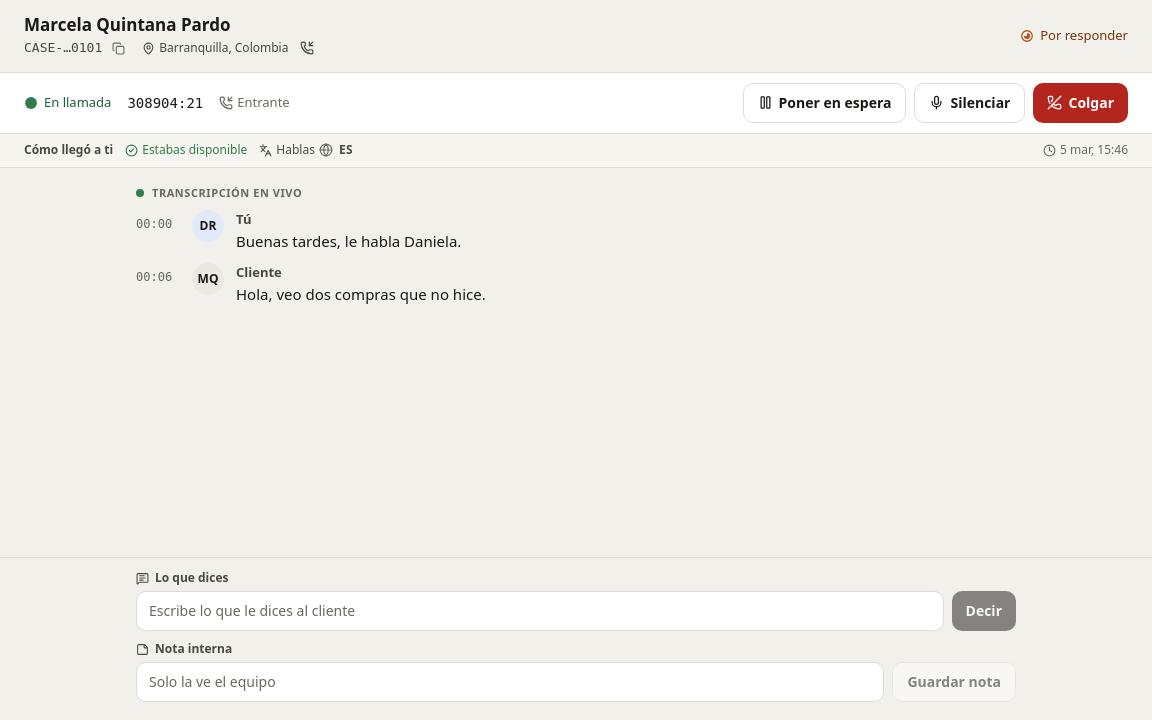
Scenario: ConversationPane · call (slice 12) › shows the live transcript with times and speakers, and posts what the analyst says
Expected: the list item "00:00 DR Tú Buenas tardes, le habla Daniela." is shown, [136, 210, 461, 251]
Expected: the list item "00:06 MQ Cliente Hola, veo dos compras que no hice." is shown, [136, 263, 486, 304]
In the field labelled "Lo que dices": {"x": 540, "y": 611} [136, 591, 944, 631], type "Ya las registré en su caso."
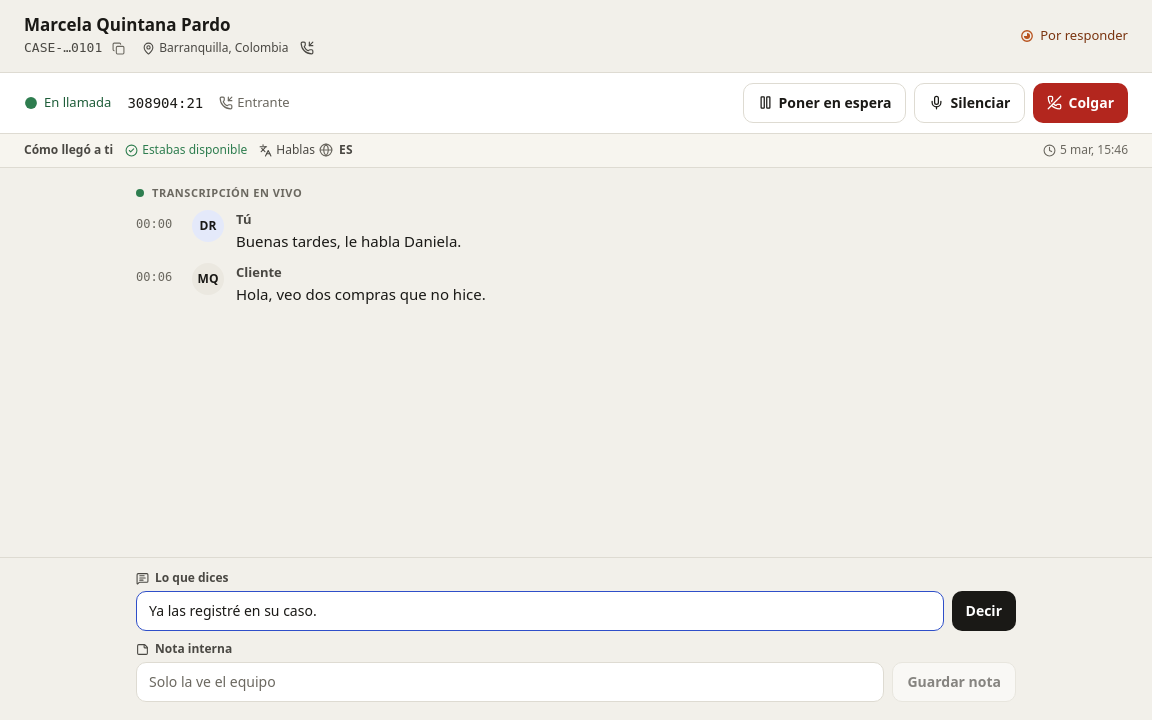
Click the button "Decir": {"x": 984, "y": 611} [952, 591, 1016, 631]
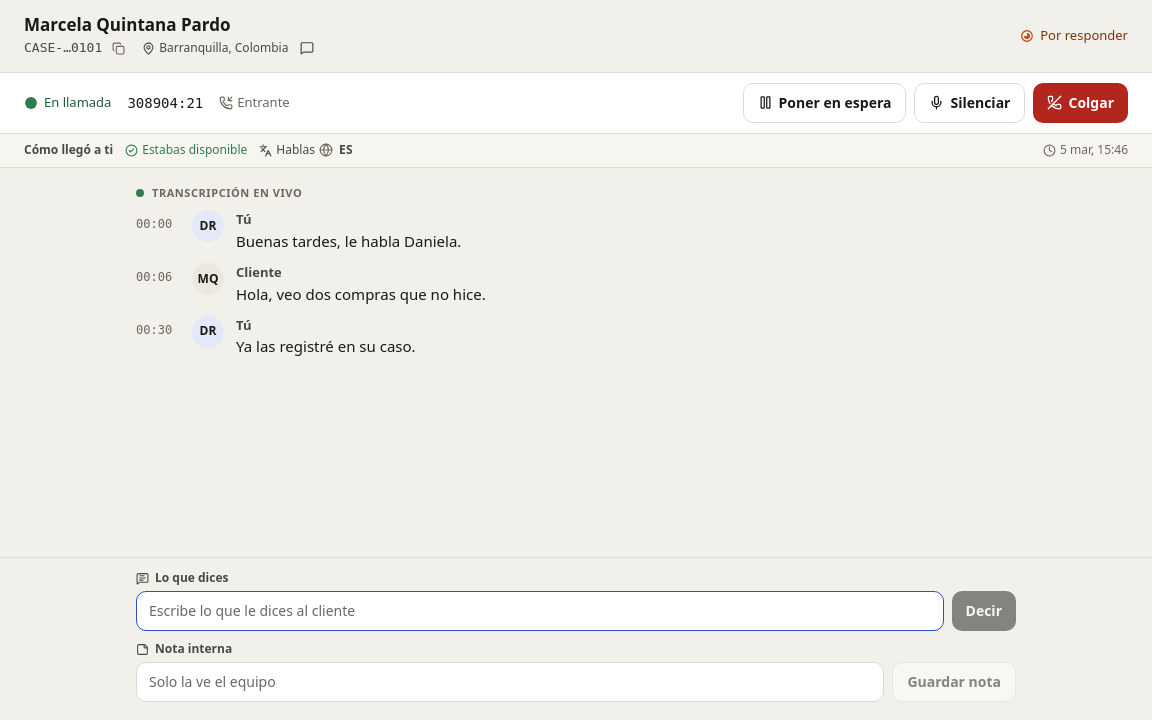
Result: the text "Ya las registré en su caso." is shown at [236, 336, 416, 358]
Result: the field labelled "Lo que dices" is empty at [136, 591, 944, 631]
